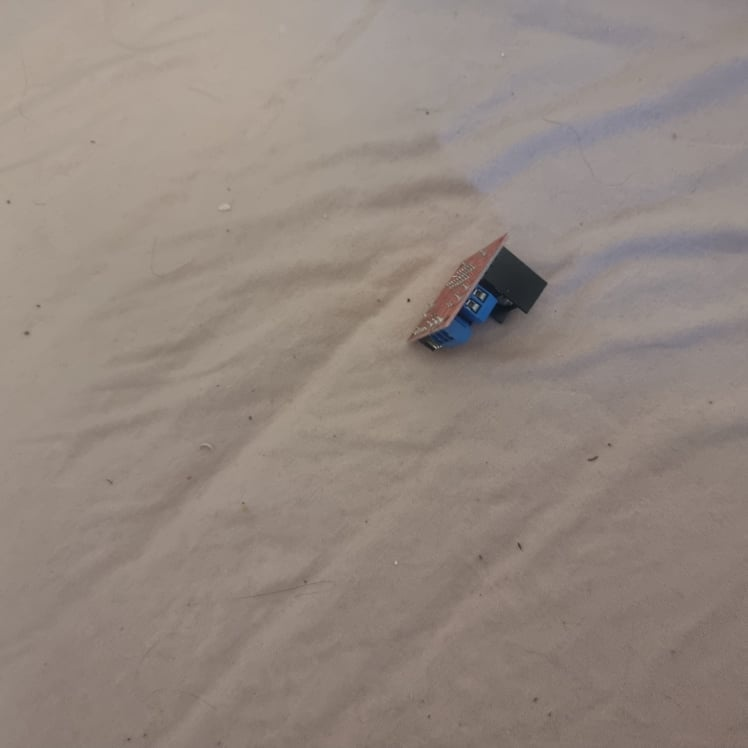MOTOR: (411, 235, 549, 356)
